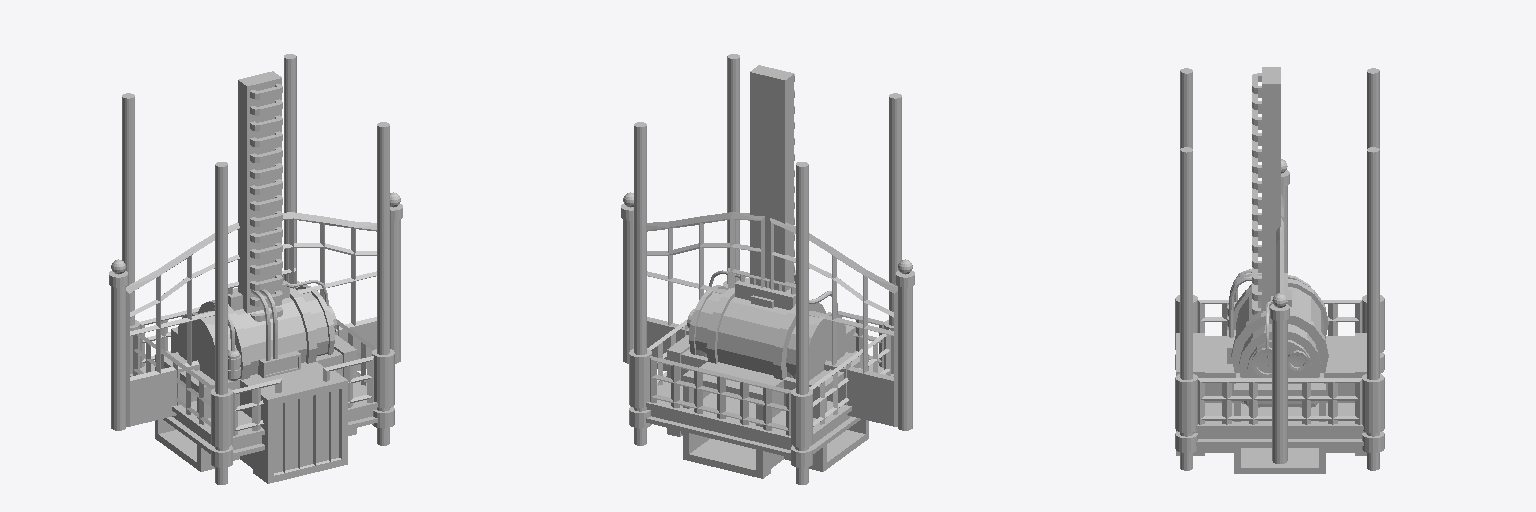
The model's file is Gauge.obj.
3 renders of one model, left to right at view 1: azimuth 30°, elevation 25°; view 2: azimuth 150°, elevation 25°; view 3: azimuth 270°, elevation 25°, orthographic.
Parts seen in each view (by area): view 1: Manor_Gate_Cylinder, Rods_Plane.005, Plane_Plane.001, Ladder_Cube.007, Boiler_Cylinder.001, Vent_Cap_Closed_Cube.016, Vent-02_Cube.012, Vent_Cap_Slots_Cube.017, Vent-01_Cube.010; view 2: Plane_Plane.001, Manor_Gate_Cylinder, Rods_Plane.005, Boiler_Cylinder.001, Ladder_Cube.007, Vent-02_Cube.012, Vent-01_Cube.010; view 3: Plane_Plane.001, Rods_Plane.005, Boiler_Cylinder.001, Ladder_Cube.007, Vent-02_Cube.012, Manor_Gate_Cylinder, Vent-01_Cube.010.
Boxes of the visible parts, x1=… form: Manor_Gate_Cylinder: x1=109, y1=192, x2=402, y2=430; Rods_Plane.005: x1=122, y1=54, x2=389, y2=484; Plane_Plane.001: x1=130, y1=281, x2=394, y2=467; Ladder_Cube.007: x1=238, y1=71, x2=282, y2=321; Boiler_Cylinder.001: x1=177, y1=280, x2=336, y2=380; Vent_Cap_Closed_Cube.016: x1=261, y1=376, x2=346, y2=482; Vent-02_Cube.012: x1=155, y1=335, x2=356, y2=471; Vent_Cap_Slots_Cube.017: x1=261, y1=380, x2=347, y2=483; Vent-01_Cube.010: x1=171, y1=327, x2=340, y2=478; Plane_Plane.001: x1=629, y1=281, x2=893, y2=467; Manor_Gate_Cylinder: x1=621, y1=192, x2=914, y2=430; Rods_Plane.005: x1=634, y1=54, x2=901, y2=484; Boiler_Cylinder.001: x1=687, y1=270, x2=846, y2=380; Ladder_Cube.007: x1=750, y1=65, x2=794, y2=291; Vent-02_Cube.012: x1=667, y1=335, x2=868, y2=471; Vent-01_Cube.010: x1=683, y1=327, x2=852, y2=478; Plane_Plane.001: x1=1175, y1=295, x2=1384, y2=453; Rods_Plane.005: x1=1180, y1=68, x2=1379, y2=470; Boiler_Cylinder.001: x1=1227, y1=269, x2=1328, y2=403; Ladder_Cube.007: x1=1252, y1=67, x2=1280, y2=314; Vent-02_Cube.012: x1=1205, y1=336, x2=1354, y2=473; Manor_Gate_Cylinder: x1=1270, y1=159, x2=1289, y2=463; Vent-01_Cube.010: x1=1193, y1=333, x2=1366, y2=455.
Size of the model in its own units: 6.15 by 7.24 by 3.82.